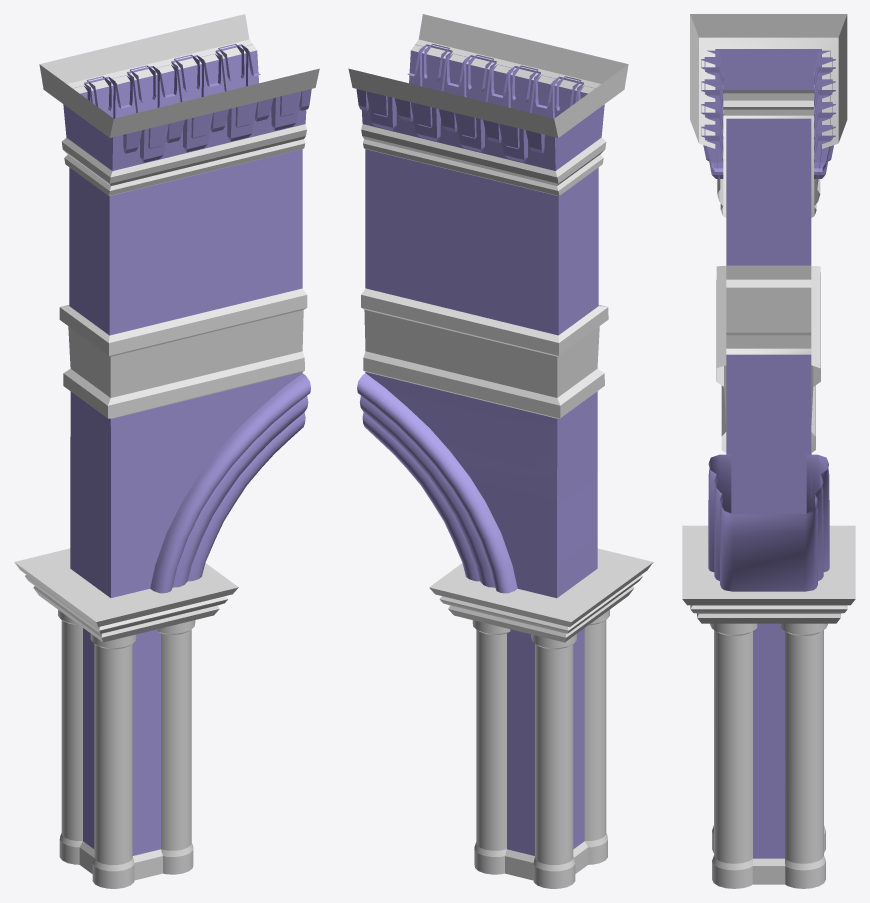
File: Arch v2 End.fbx
3 renders of one model, left to right at view 1: azimuth 30°, elevation 25°; view 2: azimuth 150°, elevation 25°; view 3: azimuth 270°, elevation 25°, orthographic. The views are drawn at different scales.
Visible parts, largest first — view 1: Arch End v2_LOD0; view 2: Arch End v2_LOD0; view 3: Arch End v2_LOD0.
Part boxes in pixels (x1,y1,x2,y2): Arch End v2_LOD0: [14, 14, 319, 888]; Arch End v2_LOD0: [348, 14, 653, 888]; Arch End v2_LOD0: [682, 14, 855, 888].
Size of what is drawn, in the model's own units: 257 by 844 by 161.
